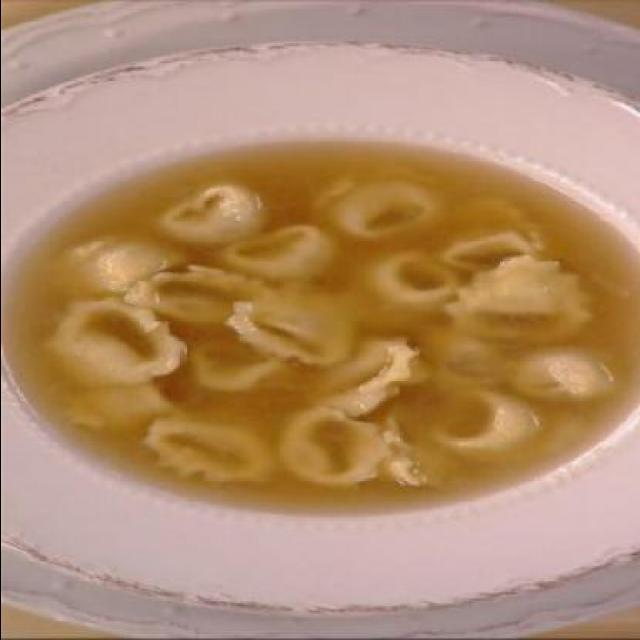Tortellini in broth: (44, 176, 612, 493)
